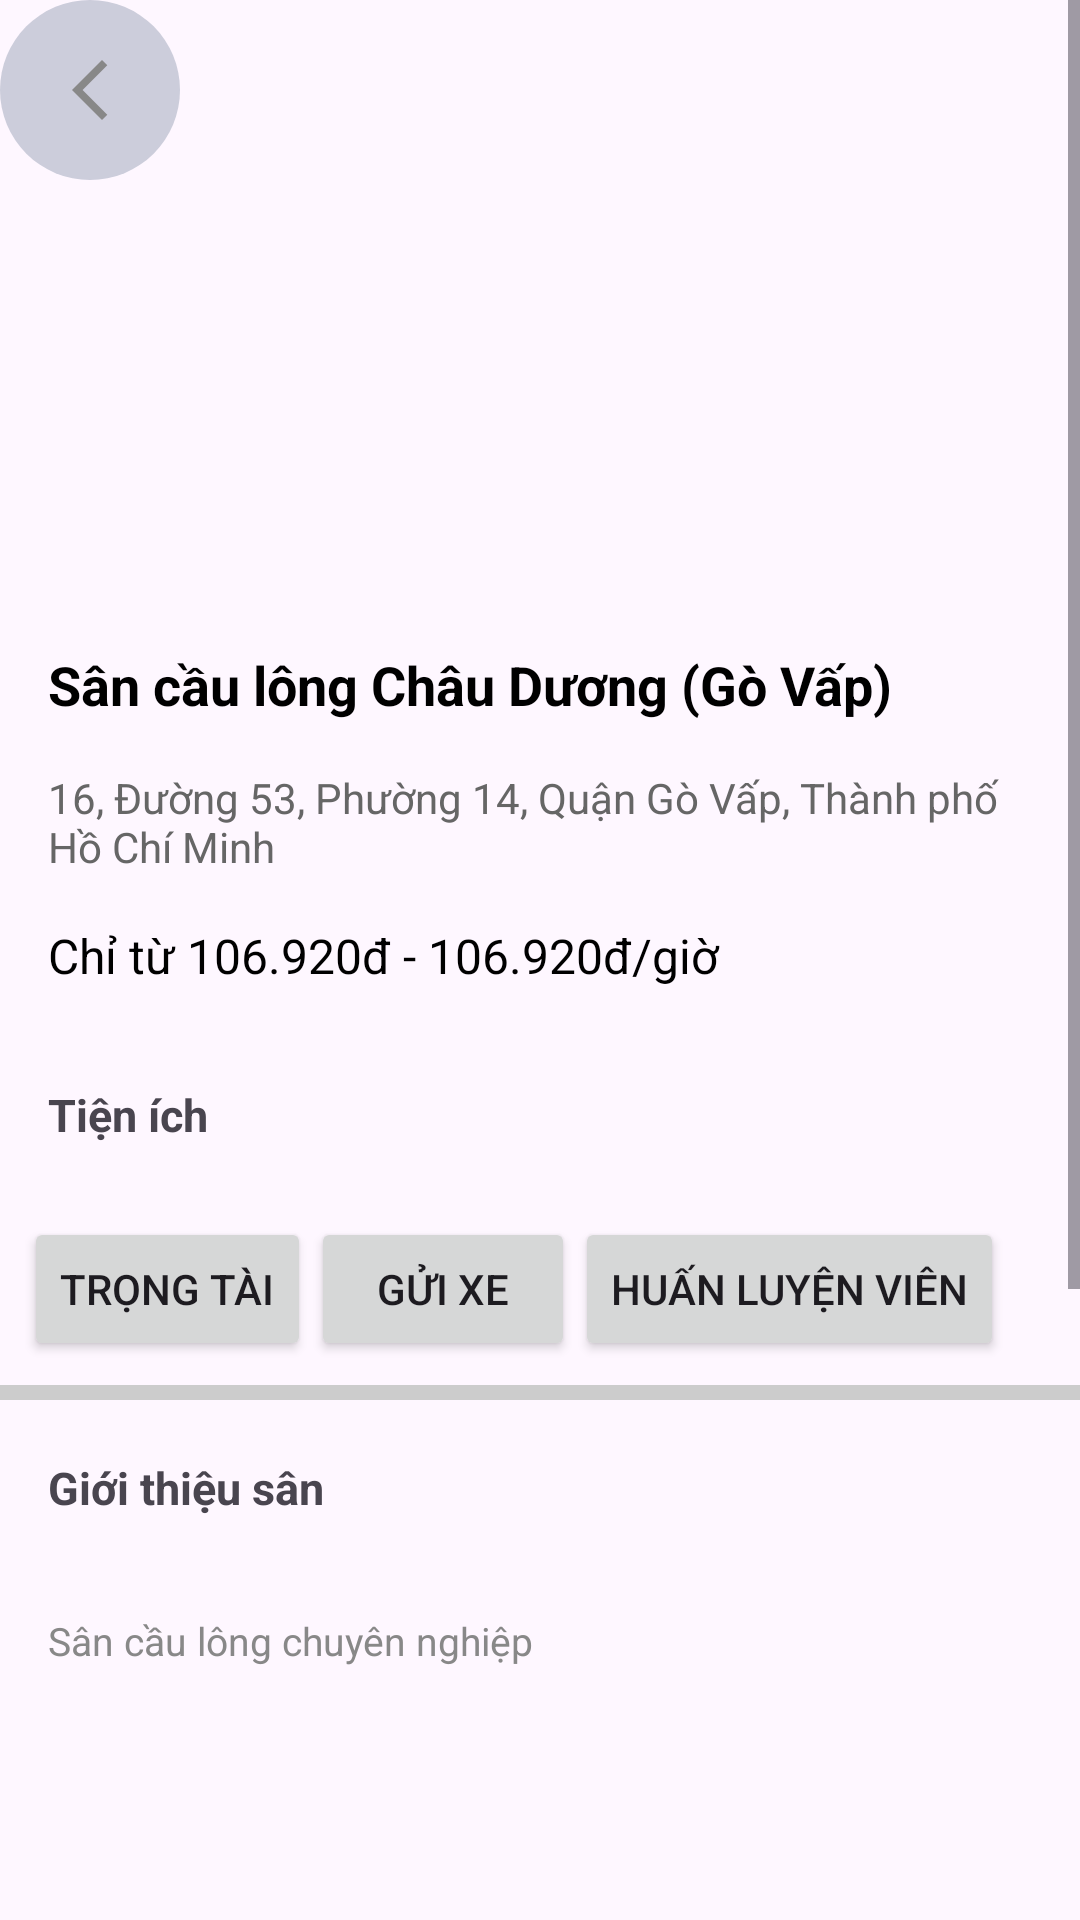

Locate icon controls on the screen. Image size 1080 × 1920, boxes as (x1, y1, x2, y2).
back: (72, 60, 107, 120)
